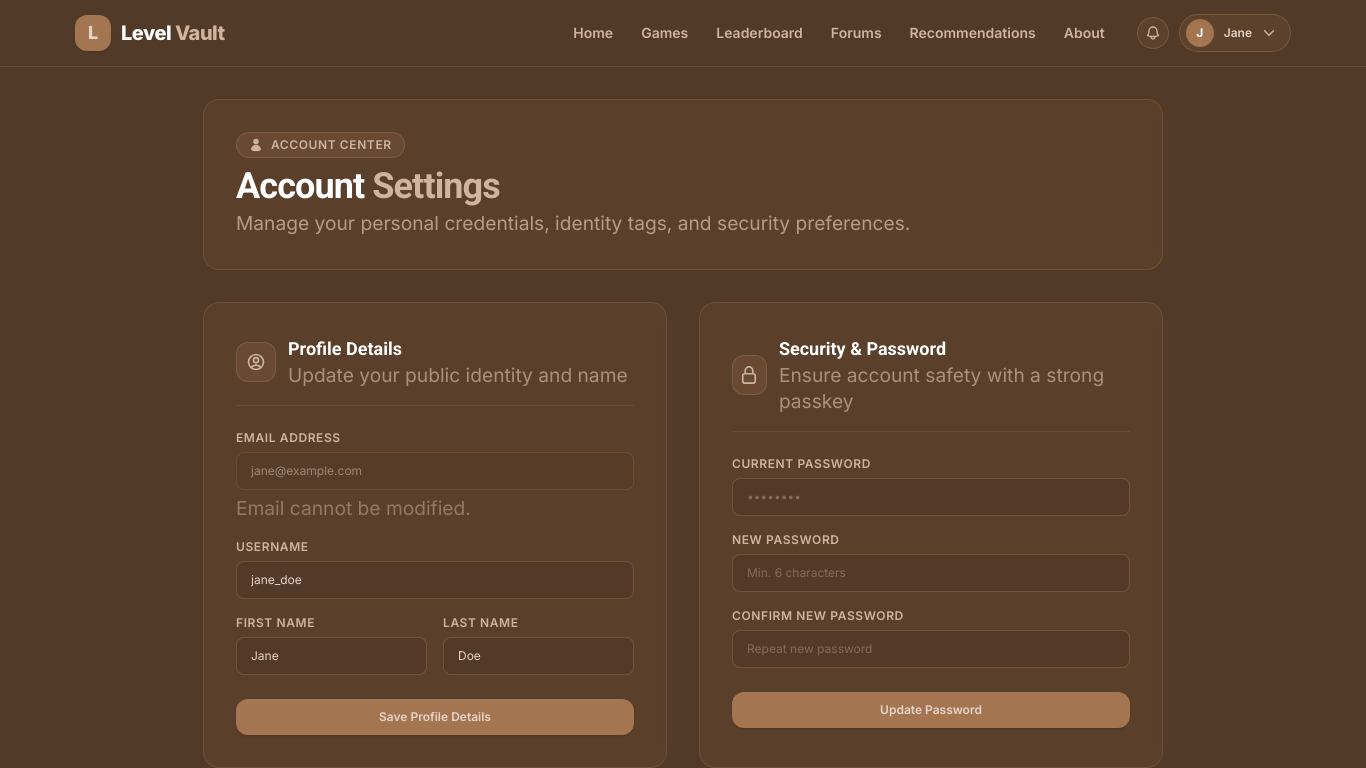
Scenario: ProfilePage › shows a client-side error when new password and confirmation do not match
Type "oldpass1" into the password field labelled "Current Password" at point(931, 497), box [732,478,1130,516]
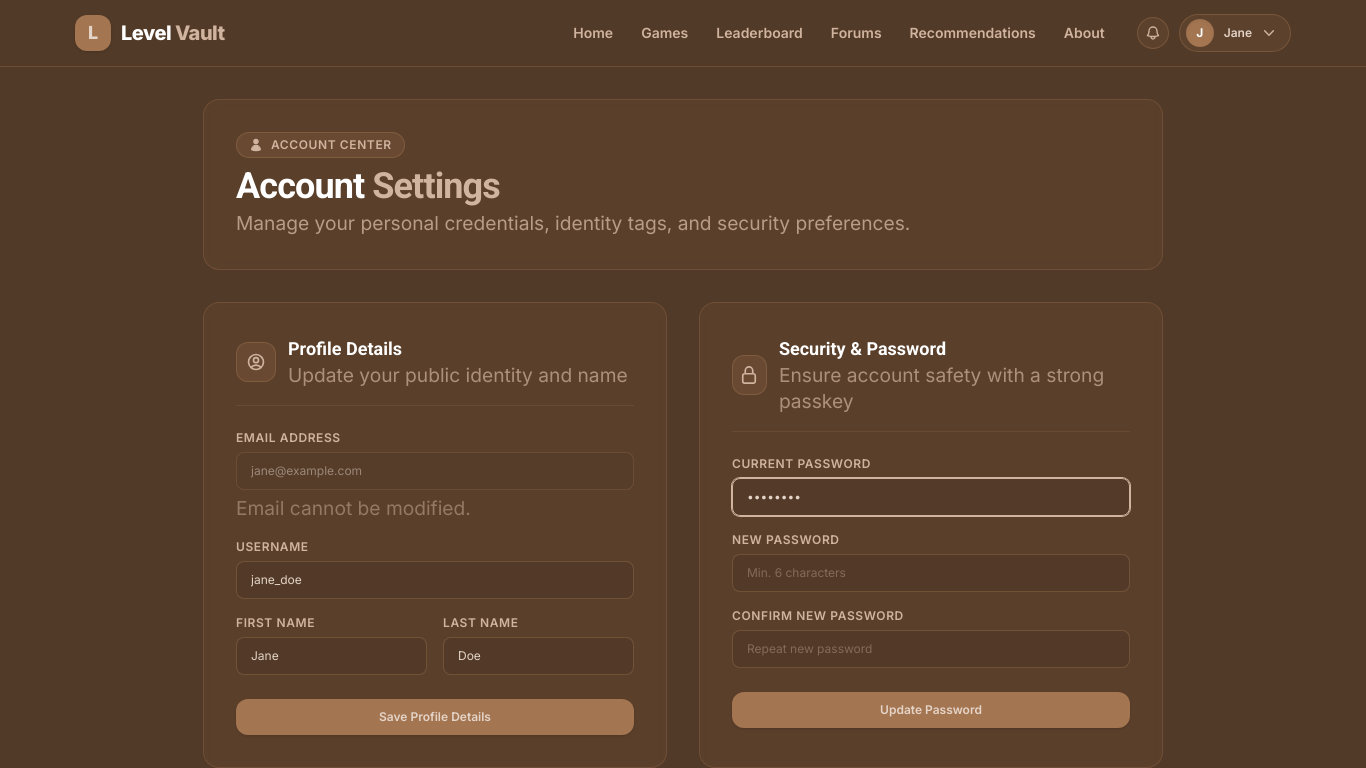
Type "newpass1" into the password field labelled "New Password" at point(931, 573), box [732,554,1130,592]
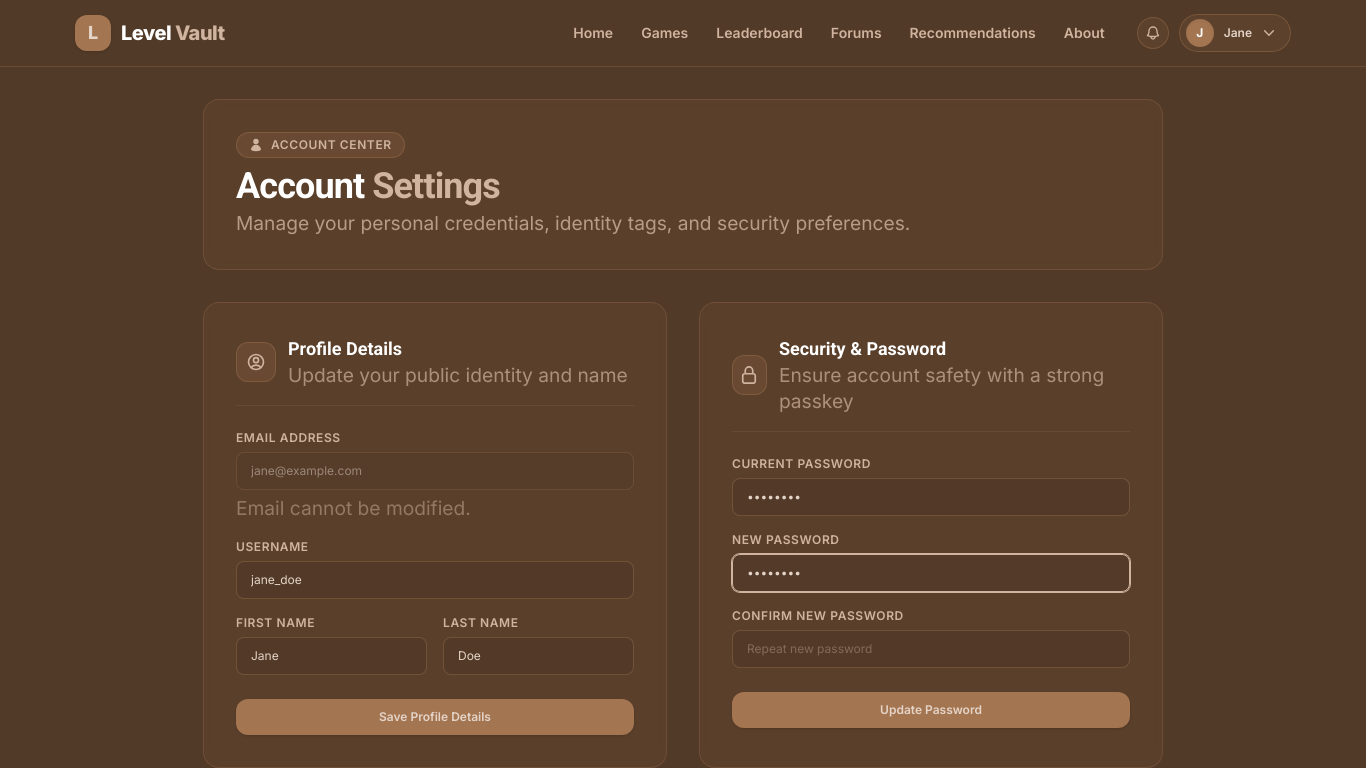
Type "different" into the password field labelled "Confirm New Password" at point(931, 649), box [732,630,1130,668]
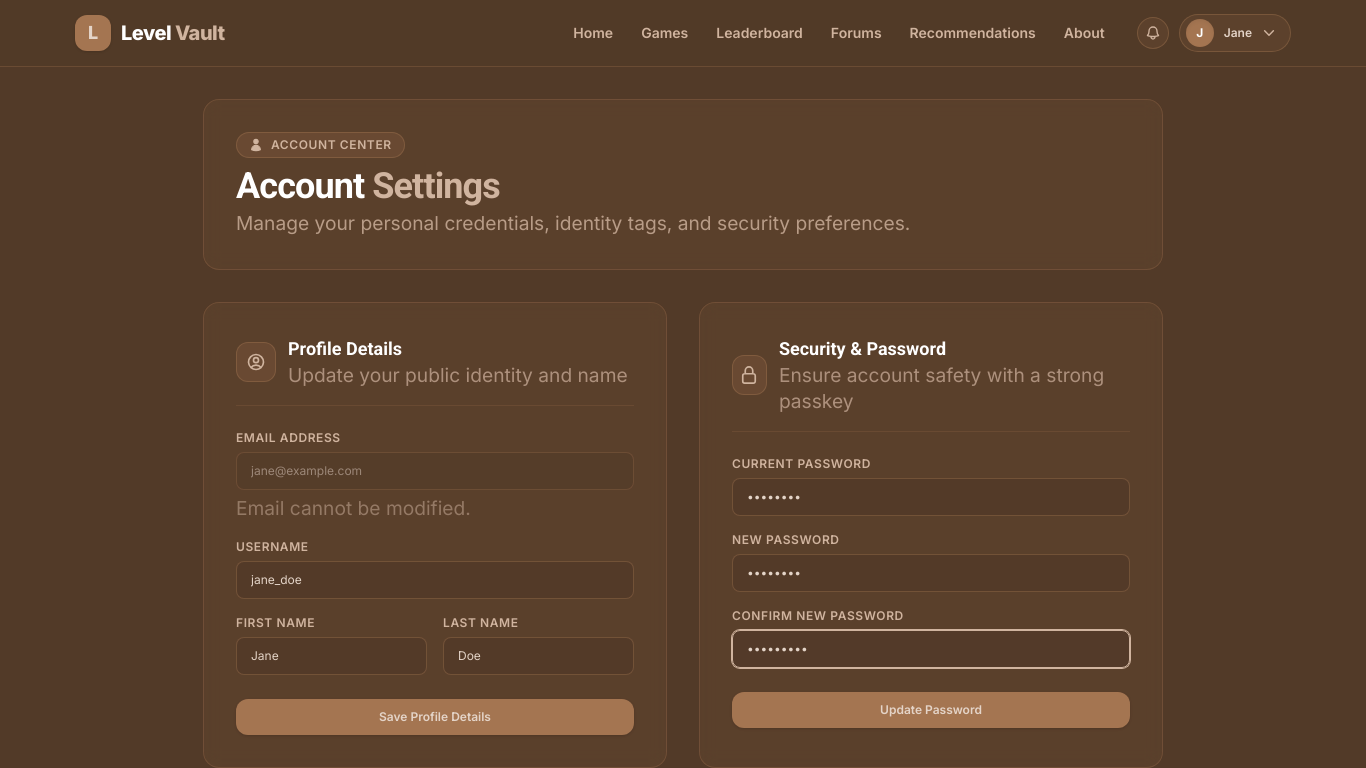
Click the button "Update Password" at point(931, 710), box [732,692,1130,728]
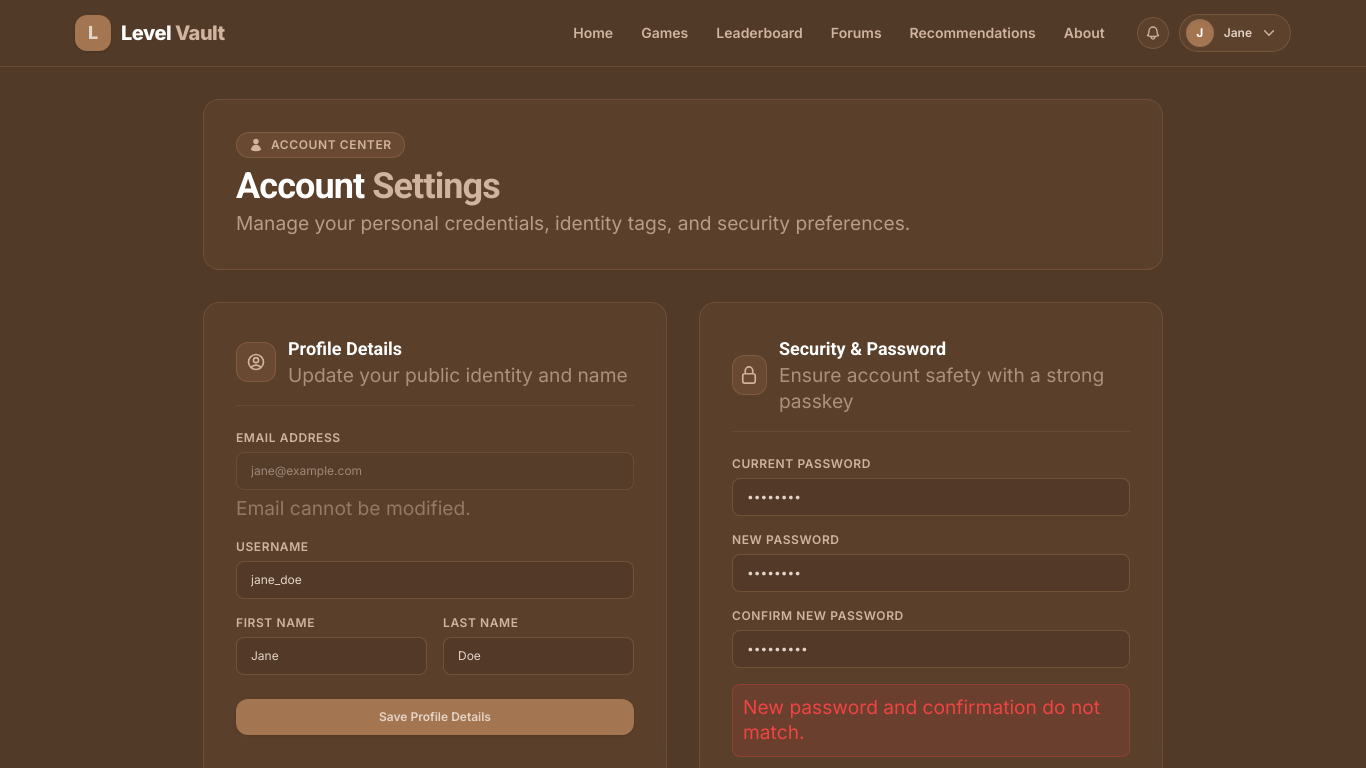
Result: the text "New password and confirmation do not match." is shown at [732,684,1130,757]
